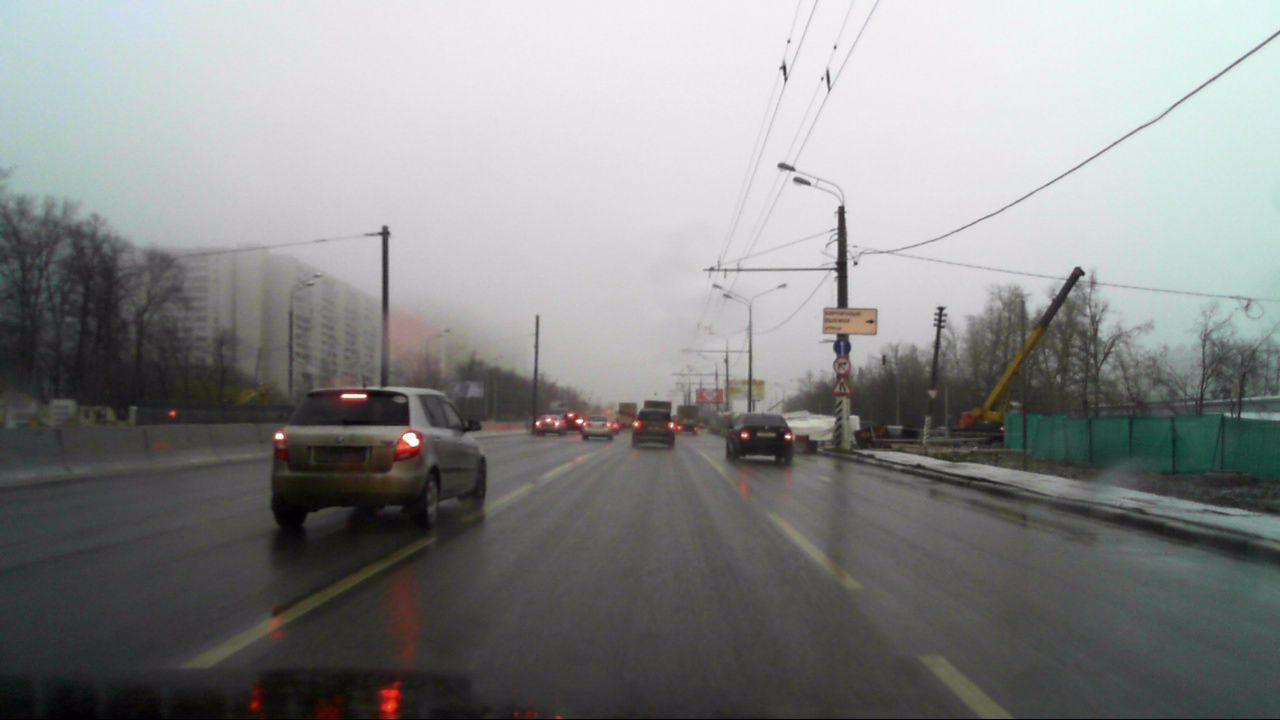road_sign: (830, 375, 855, 394), (834, 337, 851, 356), (833, 356, 850, 374)
